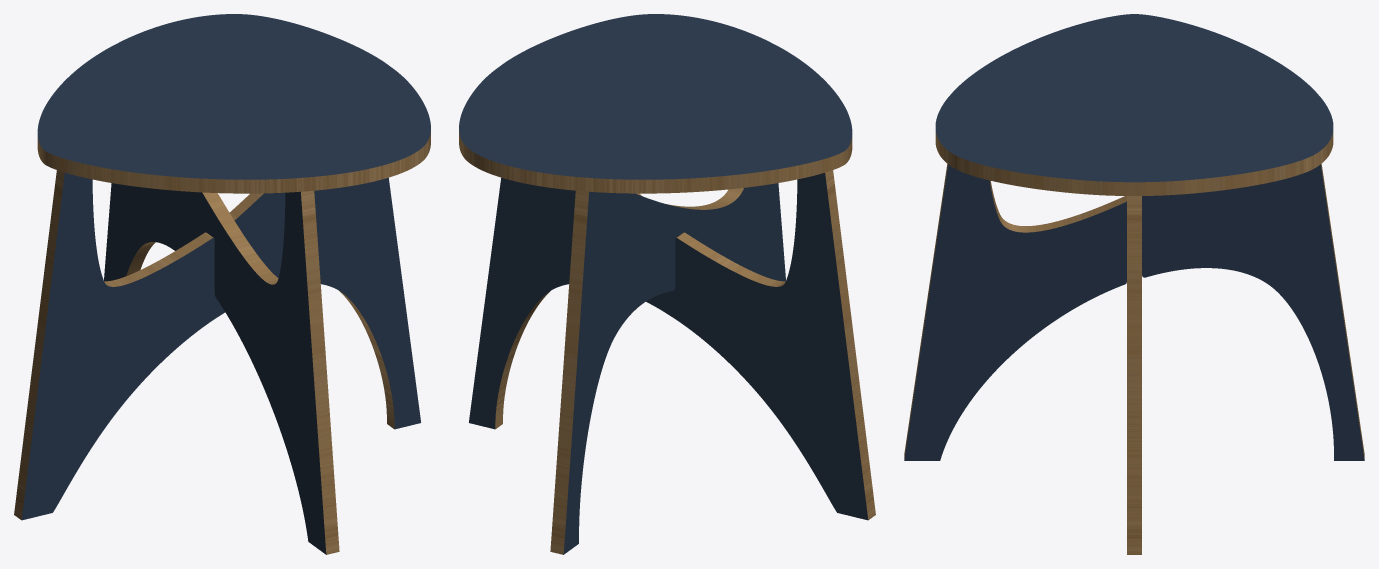
The model's file is NODO_BANQUETA_CRUZ_CUARZO_V3_MAESTRO_CORREGIDO.glb.
The picture shows the model from 3 angles, left to right: view 1: azimuth 30°, elevation 25°; view 2: azimuth 150°, elevation 25°; view 3: azimuth 270°, elevation 25°; orthographic projection.
Parts seen in each view (by area): view 1: Tapa, Lateral_2, Lateral_1; view 2: Tapa, Lateral_2, Lateral_1; view 3: Tapa, Lateral_1, Lateral_2.
Part boxes in pixels (left/top/right/bottom): Tapa: left=37, top=14, right=430, bottom=193; Lateral_2: left=14, top=170, right=420, bottom=520; Lateral_1: left=104, top=183, right=339, bottom=554; Tapa: left=459, top=14, right=852, bottom=193; Lateral_2: left=469, top=170, right=875, bottom=520; Lateral_1: left=550, top=183, right=785, bottom=554; Tapa: left=935, top=14, right=1333, bottom=195; Lateral_1: left=904, top=164, right=1364, bottom=460; Lateral_2: left=1127, top=196, right=1141, bottom=554.
Size of the model in its own units: 0.5431 by 0.468 by 0.5431.
Materials: 2 (2 with a texture image).
